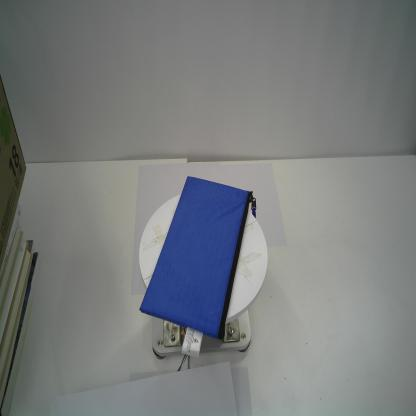Stationery: (137, 174, 257, 360)
